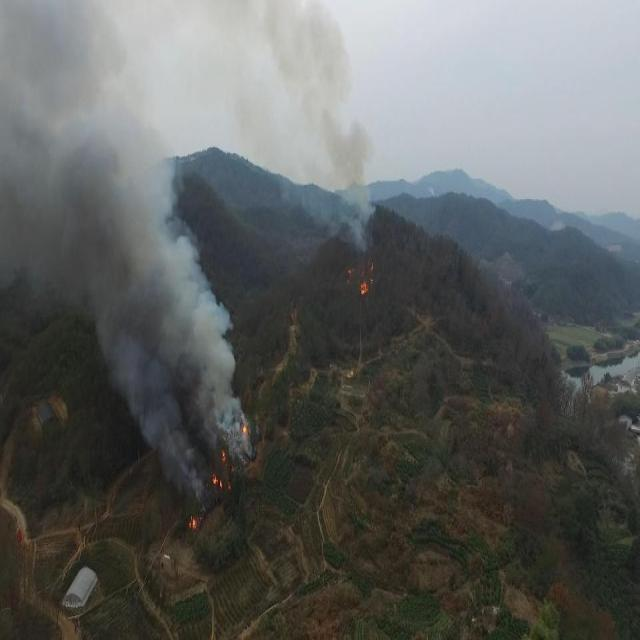Fire: (212, 446, 236, 494), (359, 260, 374, 296), (186, 512, 204, 531), (240, 422, 250, 440)
Smoke: (1, 1, 241, 446), (260, 1, 378, 255)
